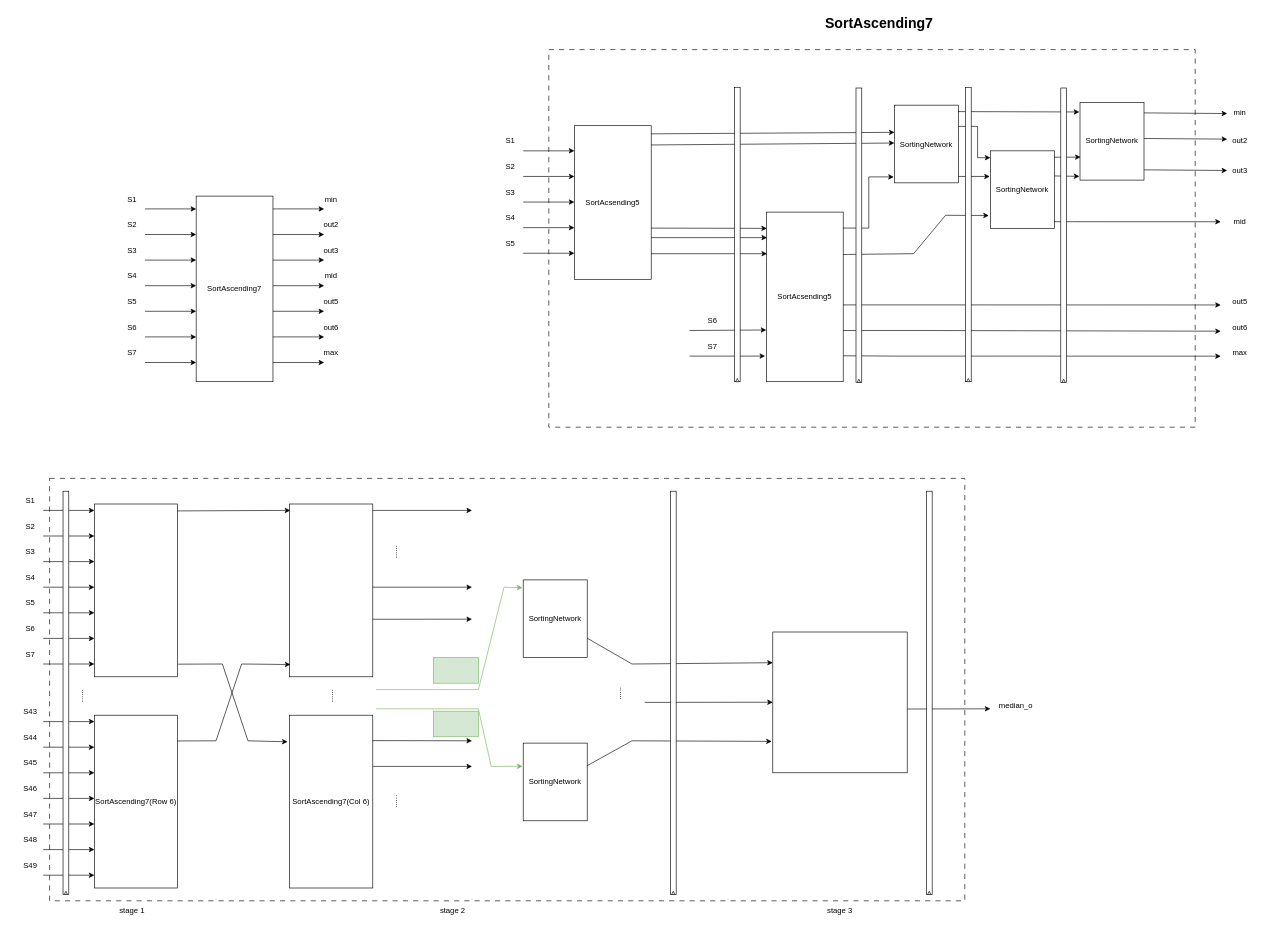
Image size: 1270x931. Some labels were removed from this diagram. The centre of each missing label's shape, as x and y in pixels:
"col2_max, col3_out6, col4_out5" belongs at (x=455, y=724).
"col2_out3, col3_out2, col4_min" belongs at (x=455, y=670).
"Median_5x5_calc" belongs at (x=839, y=702).
"SortAscending7(Col 0)" belongs at (x=331, y=590).
"SortAscending7(Row 0)" belongs at (x=136, y=590).
